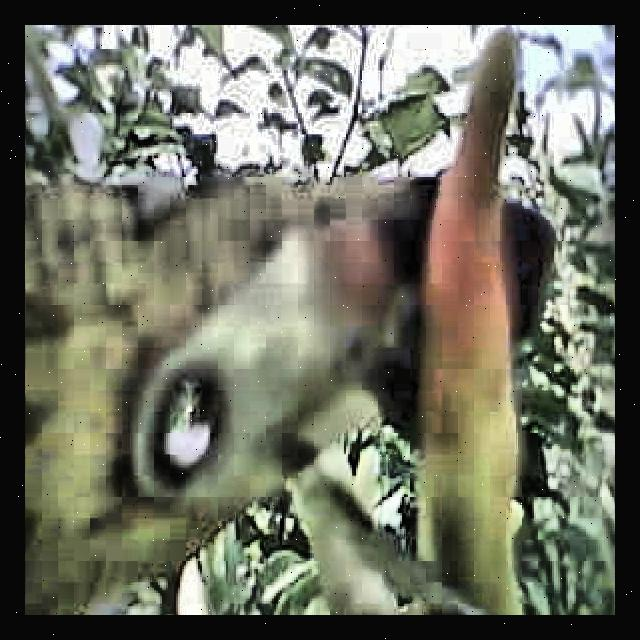Cabai: (408, 54, 545, 615)
